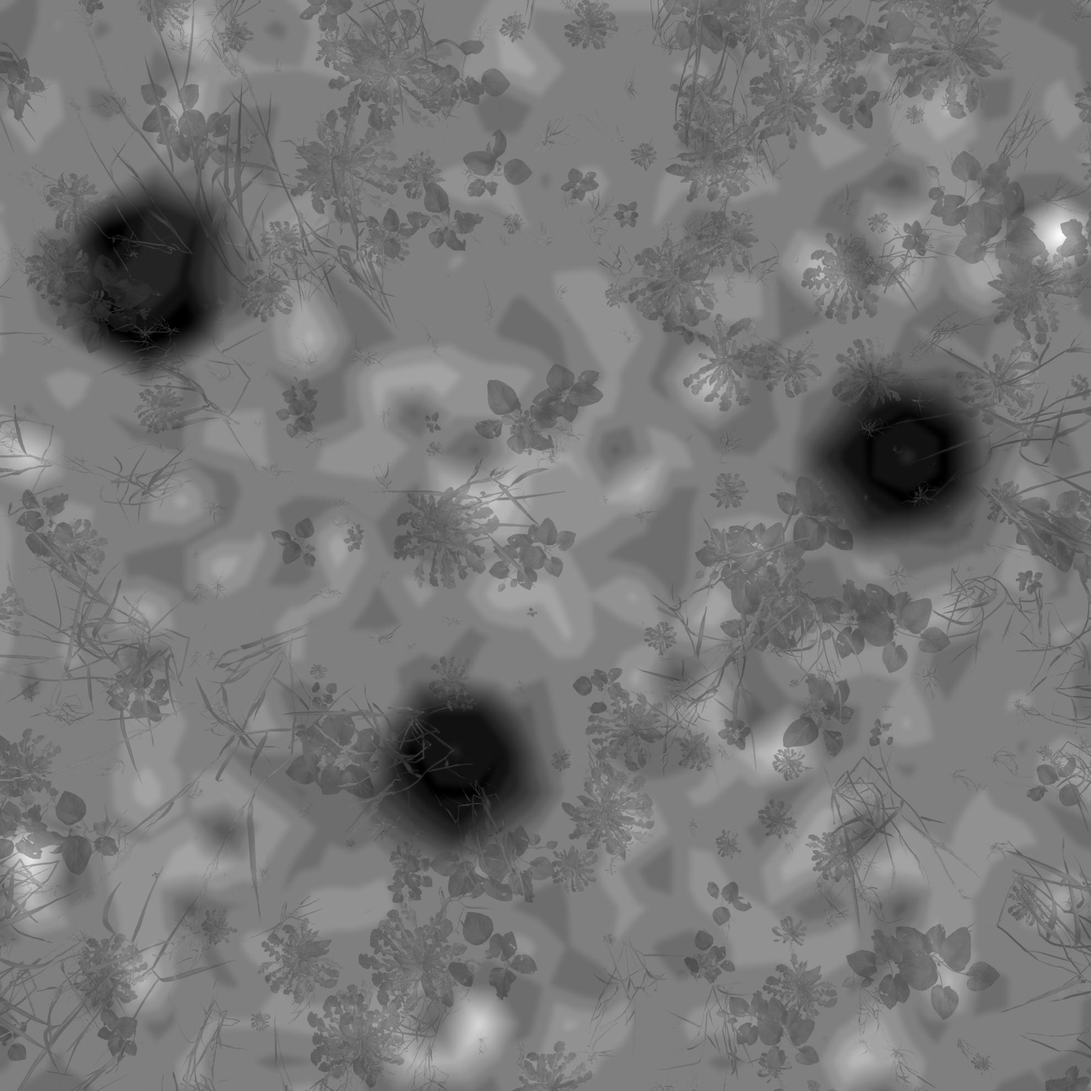landmine: (49, 197, 230, 361), (807, 373, 973, 548), (386, 692, 531, 843)
